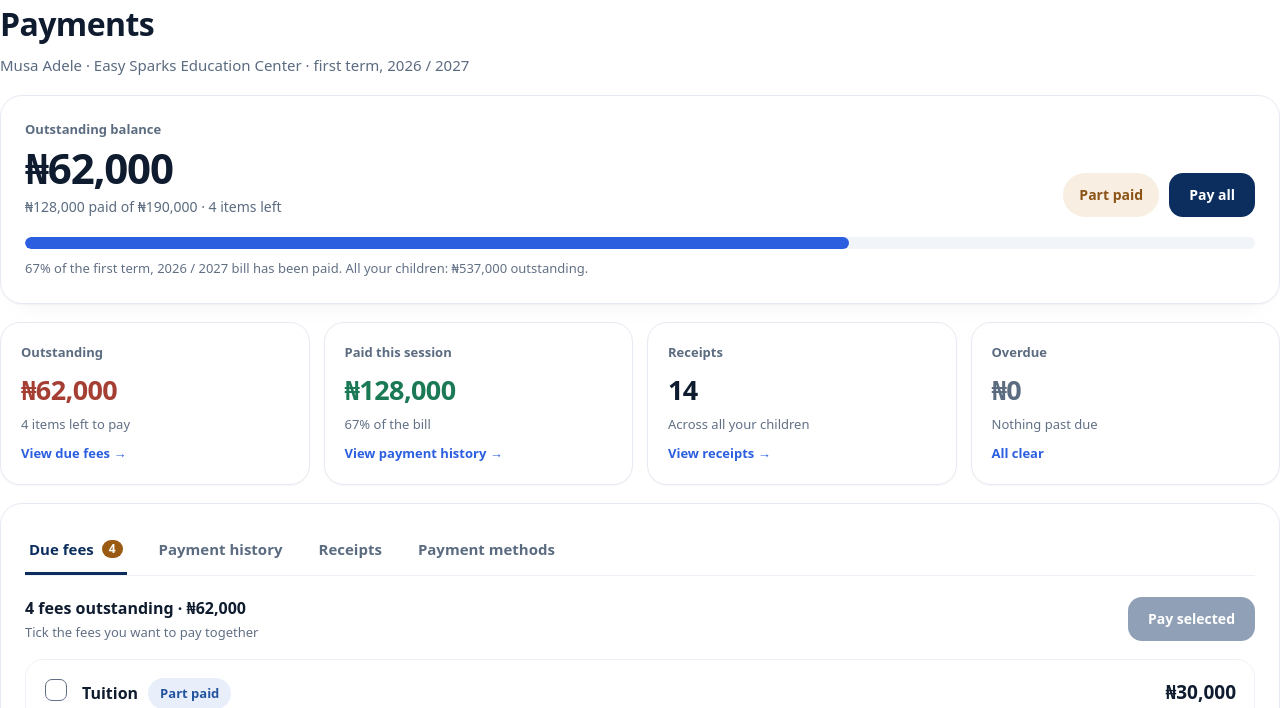
Test: Payments (fixtures) › bank transfer: a school with no transfer account says so, and goes back to the methods
Click the button "Pay all" at (1212, 195), box [1169,173,1255,217]
(page scrolled)
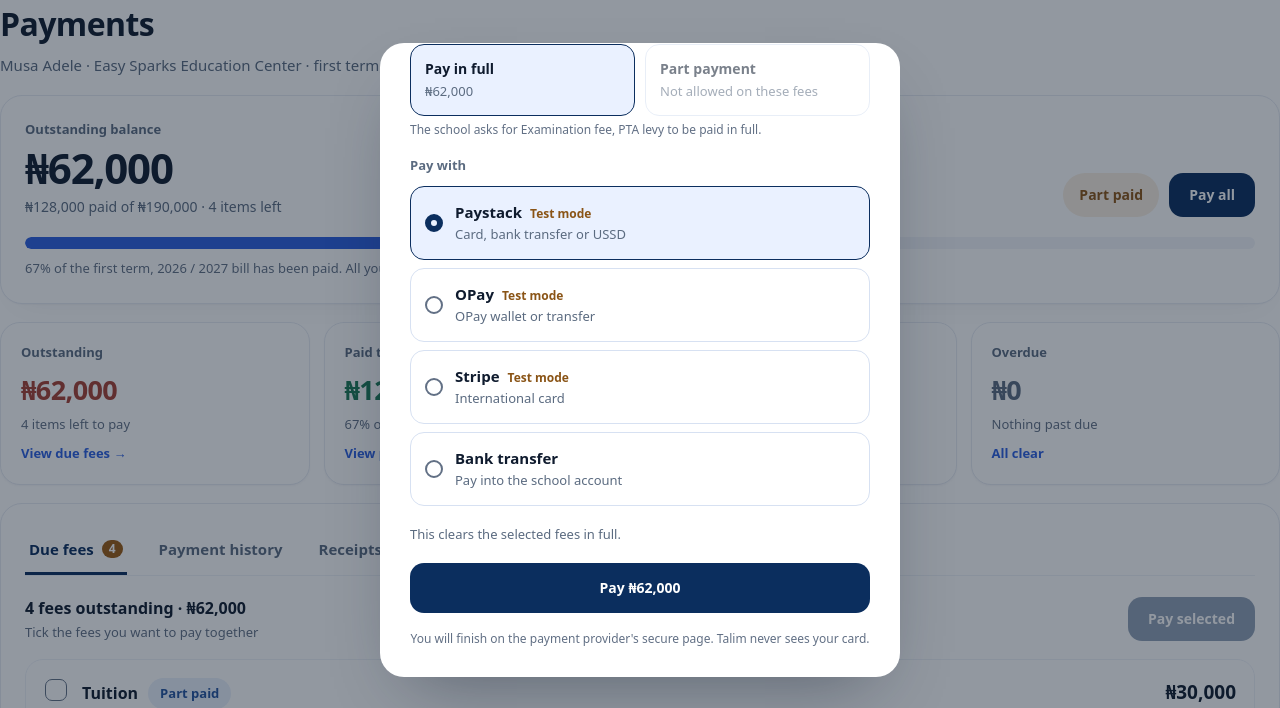
Click the radio button labelled "Bank transfer Pay into the school account" at (507, 458), box [410,432,870,506]
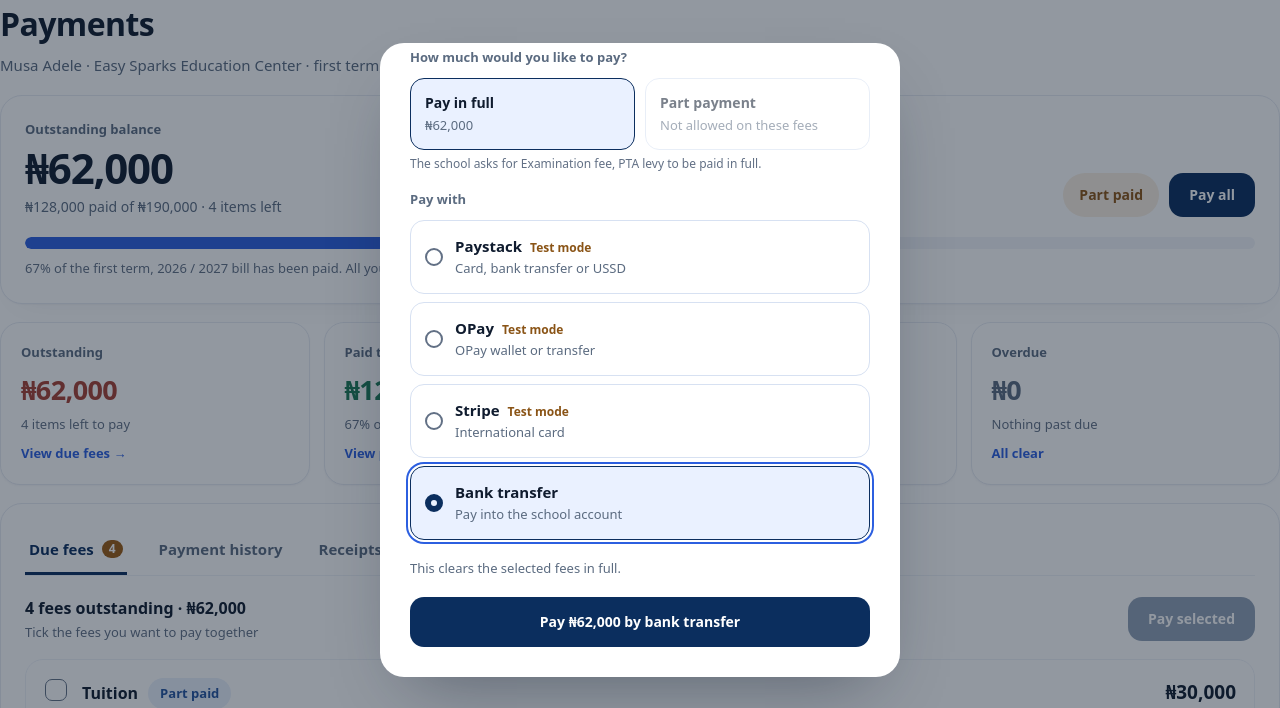
Click the button "Pay ₦62,000 by bank transfer" at (640, 622), box [410,597,870,647]
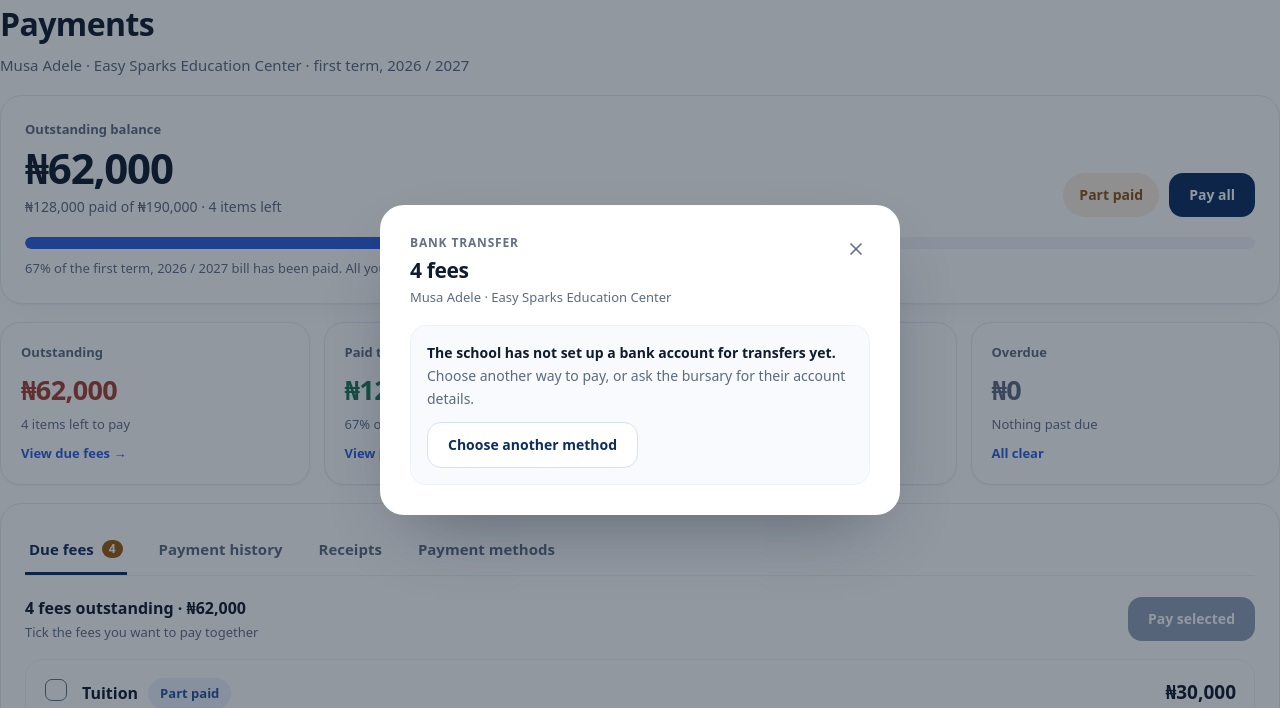
Expected: the text "The school has not set up a bank account for transfers yet." is shown, [427,343,836,362]
Click the button "Choose another method" at (532, 445), box [427,422,638,468]
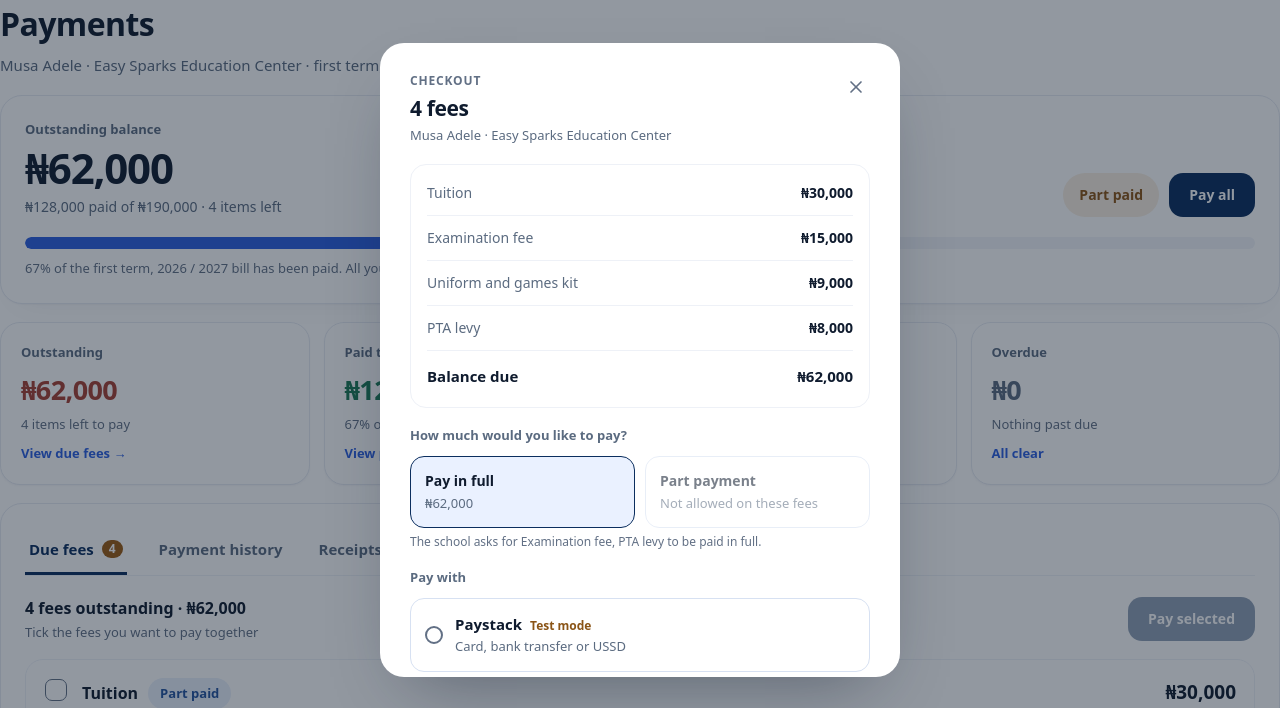
Expected: the text "How much would you like to pay?" is shown, [410,426,627,446]
